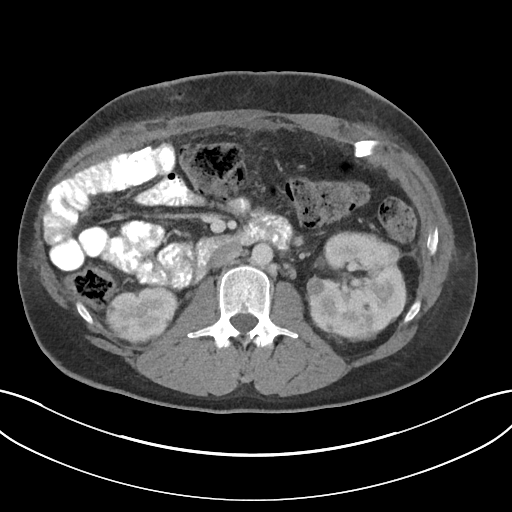Lesion: (305, 276, 326, 297)
